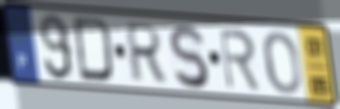9: (38, 11, 75, 83)
D: (71, 14, 116, 85)
O: (261, 30, 303, 97)
R: (217, 27, 262, 93), (125, 21, 167, 84)
S: (166, 22, 210, 91)
